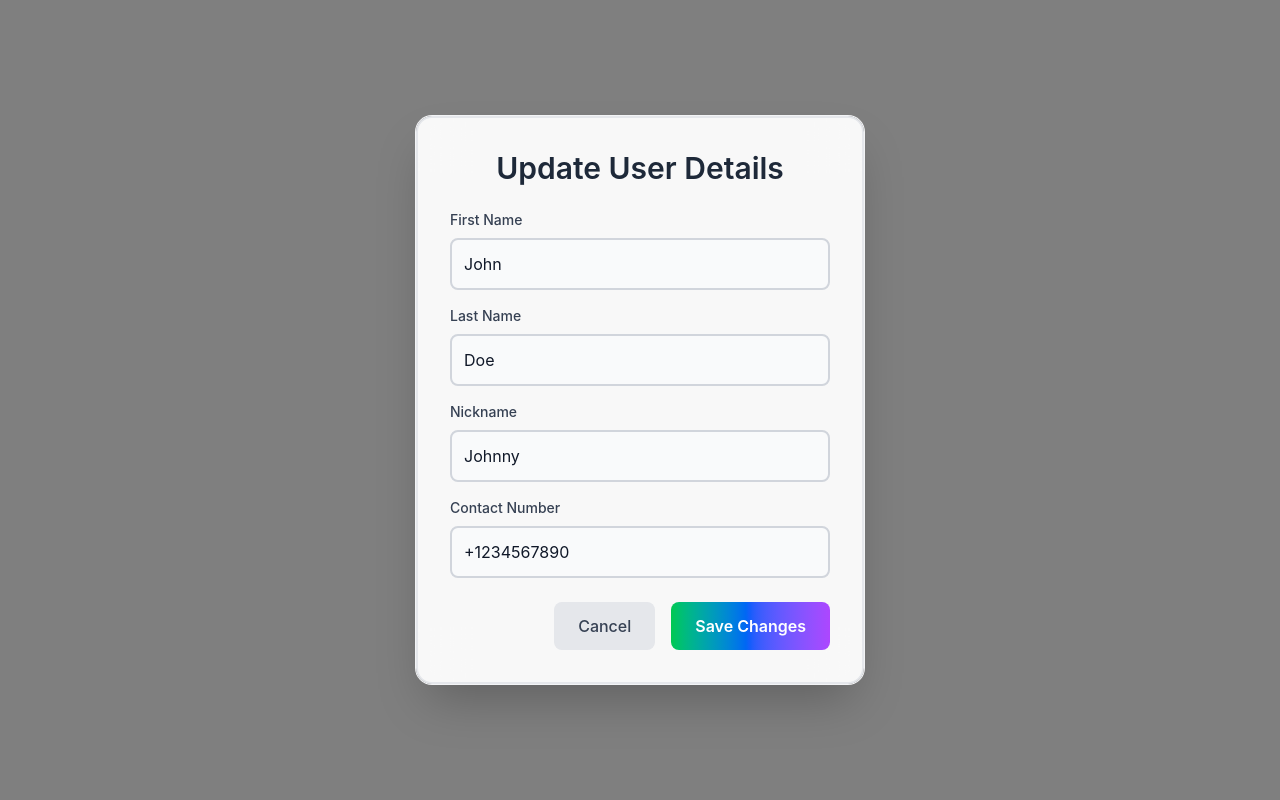
Test case: UpdateUserModal Component › Form Validation › should show validation errors when submitting with empty First Name
# Clear the first name field
Clear the field with placeholder "Enter your first name" below "First Name" at (640, 264), box [450,238,830,290]
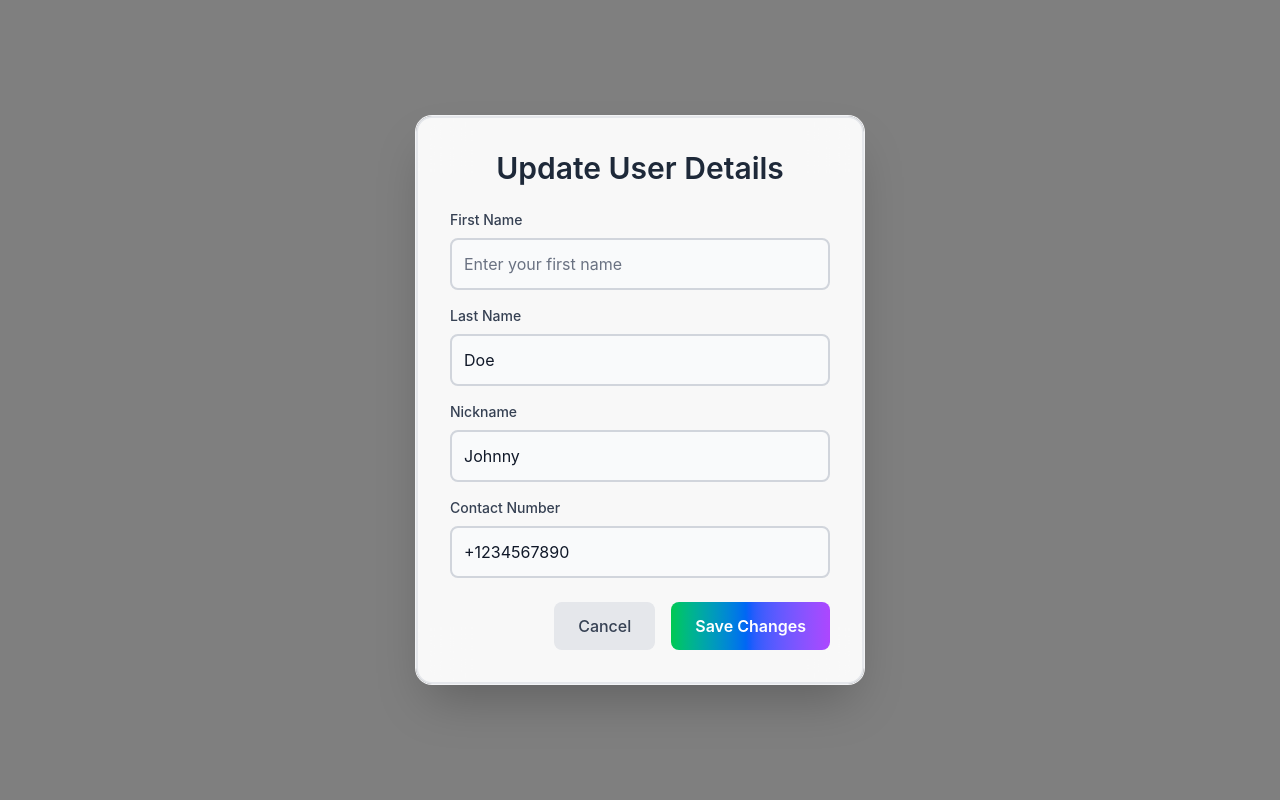
# Submit the form
Click the button "Save Changes" at (751, 626), box [671,602,830,650]
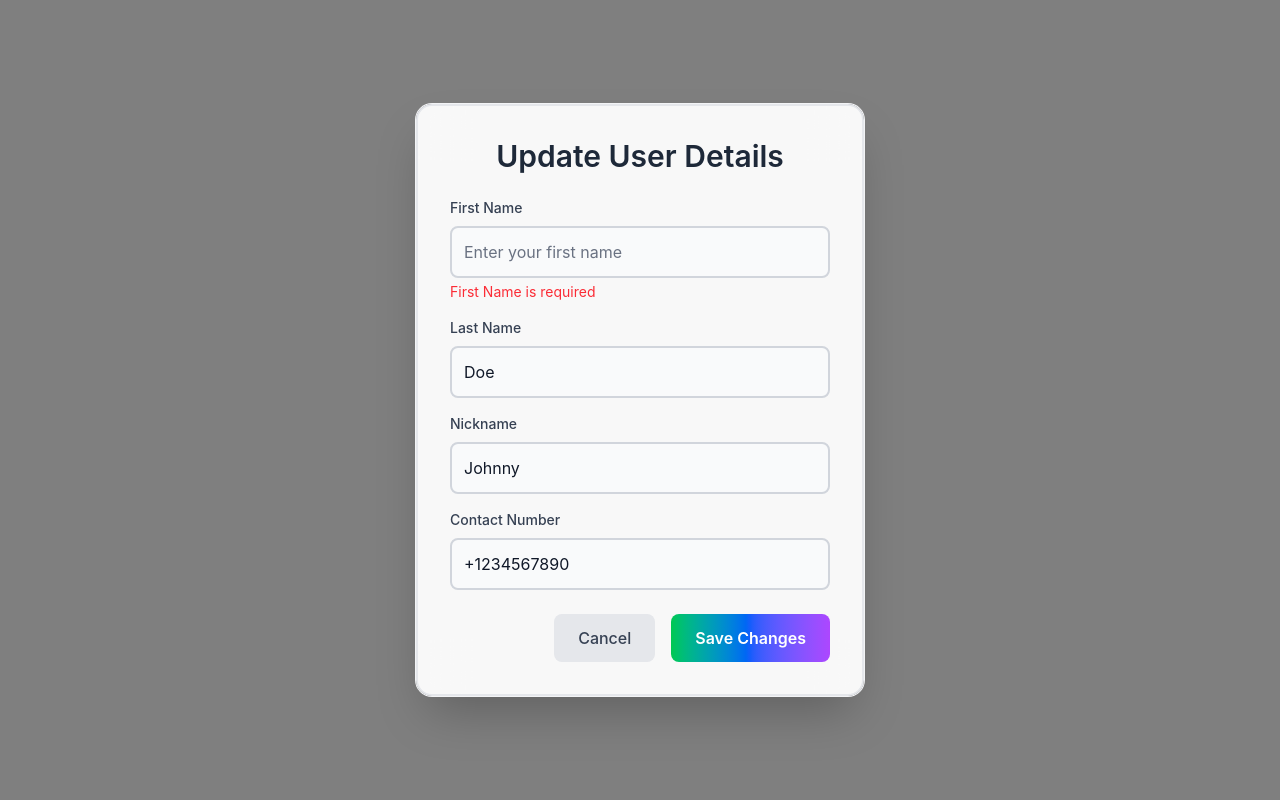
Check: the text "First Name is required" is shown, box [450,283,596,300]
